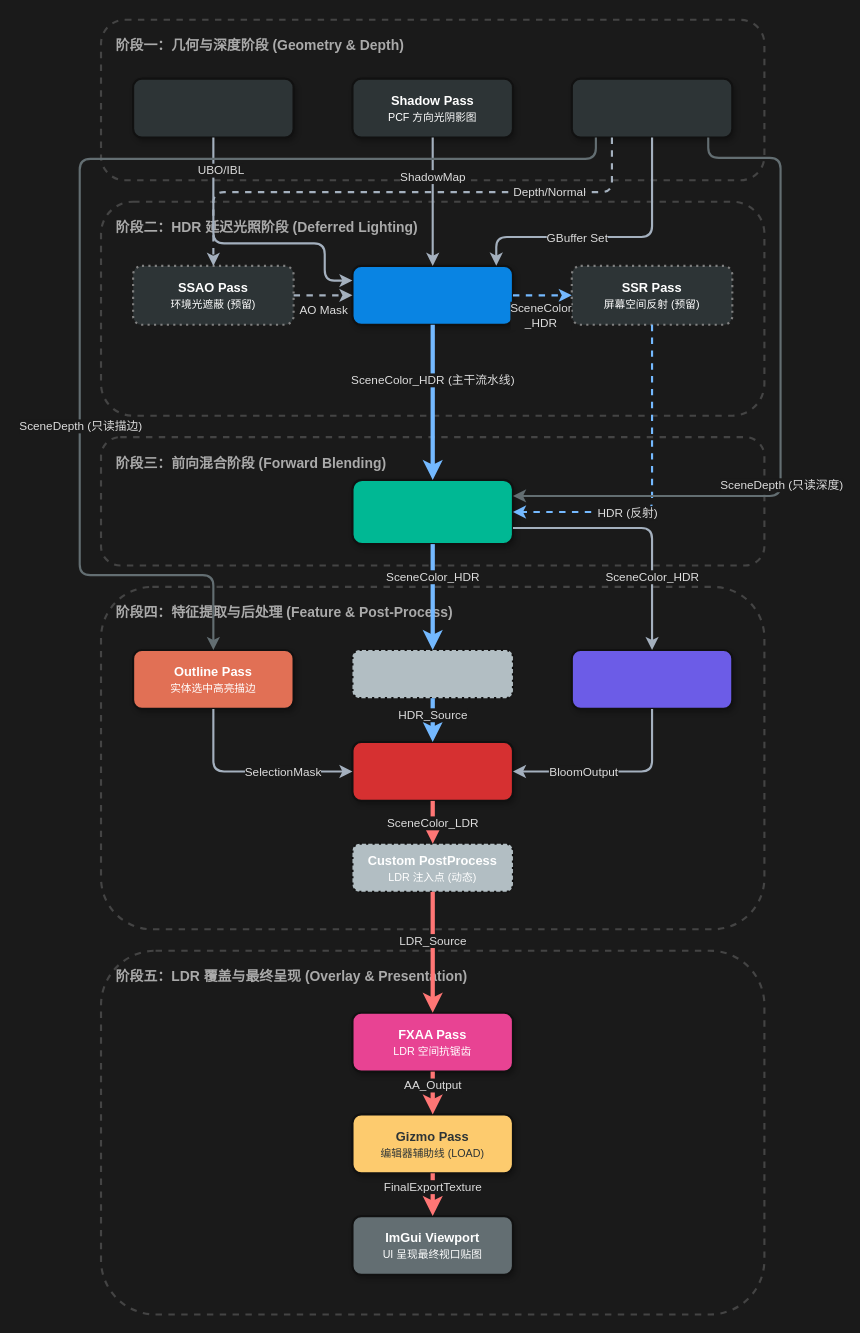
Image size: 860x1333. Some labels were removed from this diagram. The centre of each missing label's shape, as x and y in pixels:
Bloom Pass 泛光与高光提取: (652,680)
Custom PostProcess HDR 注入点 (动态): (432,673)
Forward Blending Skybox / Sprites / Grid (LOAD_OP_LOAD): (433,513)
GBuffer Pass Opaque 延迟几何: (652,109)
Globals Camera/Light/IBL UBO: (214,109)
Lighting Pass 延迟光照全屏计算: (433,296)
ToneMapping Pass ACES/Gamma 合成降维: (433,772)
